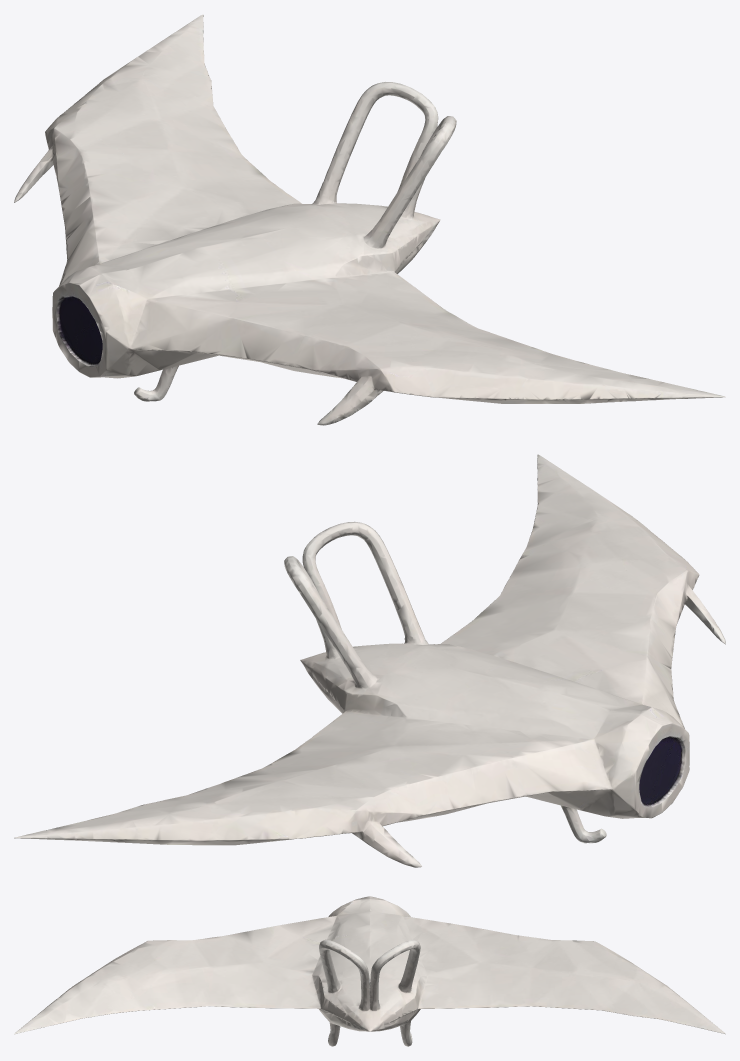
The model's file is Glider.glb.
The picture shows the model from 3 angles, top to bottom: view 1: azimuth 30°, elevation 25°; view 2: azimuth 150°, elevation 25°; view 3: azimuth 270°, elevation 25°; orthographic projection. The views are drawn at different scales.
Bounding box in the file's own units: 1.92 × 0.9998 × 4.5.
1 material, 1 textured.
